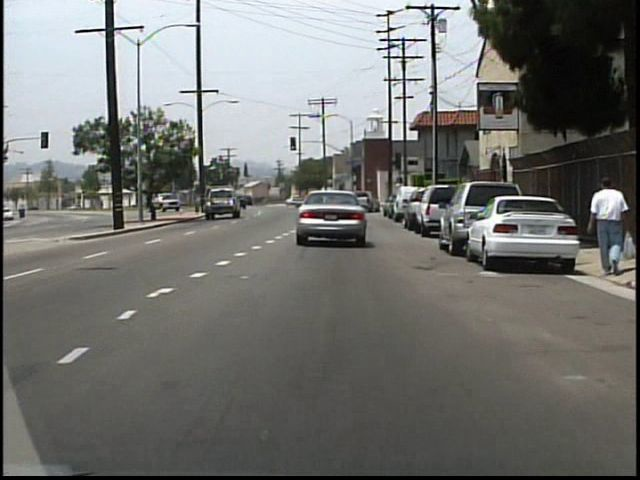person: (584, 173, 625, 278)
